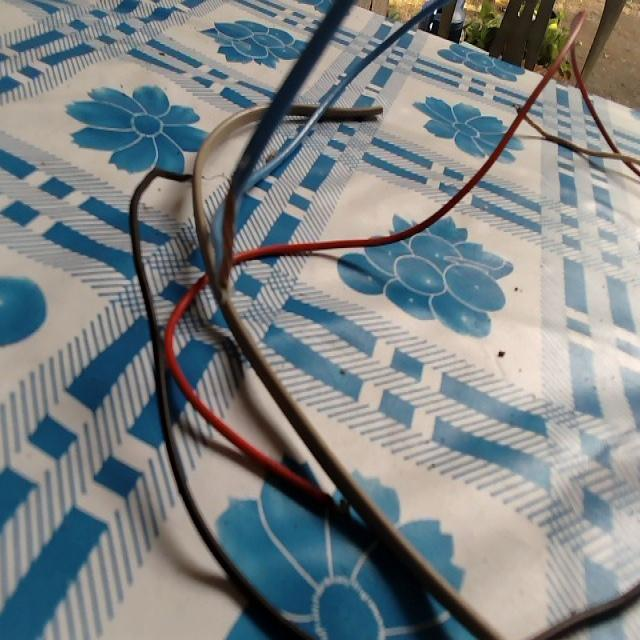-: (216, 182, 243, 294)
